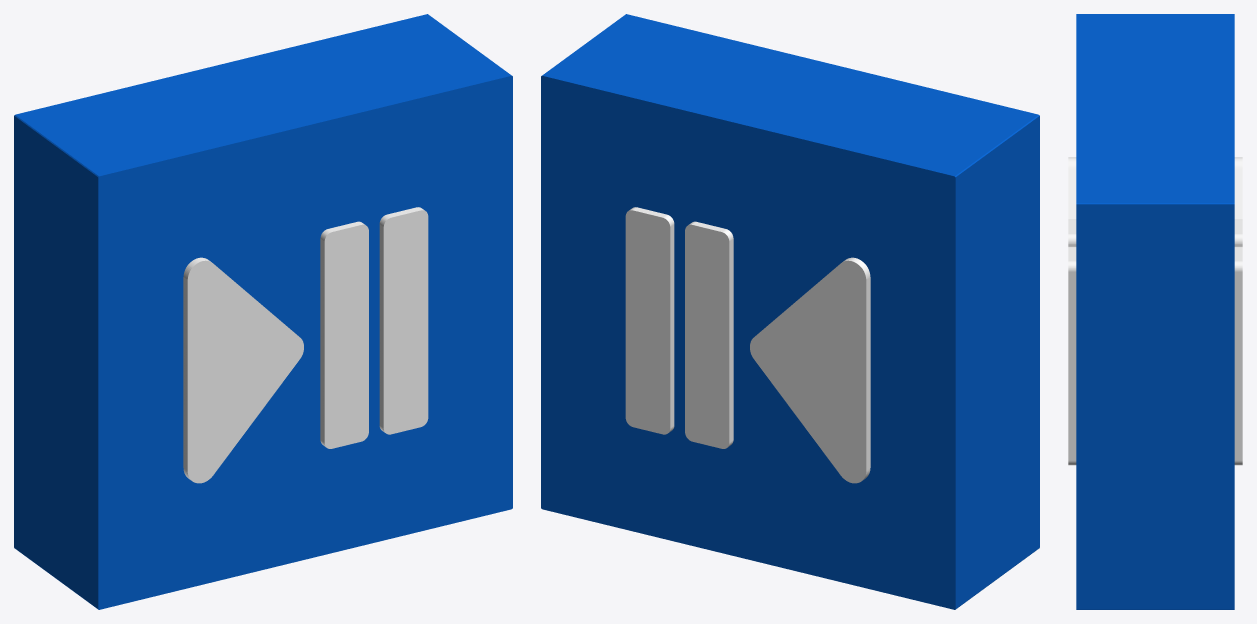
3 renders of one model, left to right at view 1: azimuth 30°, elevation 25°; view 2: azimuth 150°, elevation 25°; view 3: azimuth 270°, elevation 25°, orthographic. The views are drawn at different scales.
Parts seen in each view (by area): view 1: U+23EF_layer00_obj00, U+23EF_layer01_obj00; view 2: U+23EF_layer00_obj00, U+23EF_layer01_obj00; view 3: U+23EF_layer00_obj00, U+23EF_layer01_obj00.
Boxes of the visible parts, box(x1,y1,x2,y2) form: U+23EF_layer00_obj00: box(14, 14, 512, 609); U+23EF_layer01_obj00: box(183, 207, 428, 483); U+23EF_layer00_obj00: box(541, 14, 1039, 609); U+23EF_layer01_obj00: box(625, 207, 870, 483); U+23EF_layer00_obj00: box(1076, 14, 1234, 609); U+23EF_layer01_obj00: box(1068, 157, 1242, 465).
Bounding box in the file's own units: 0.5678 × 0.5677 × 0.22.
